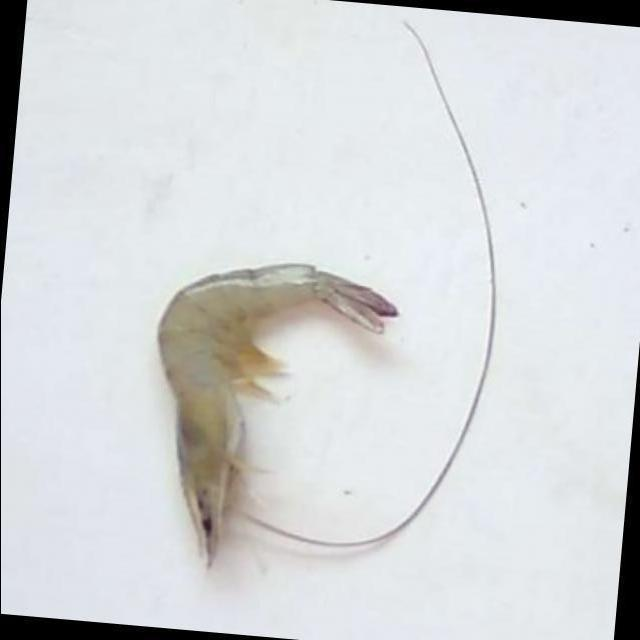shrimp: (158, 264, 395, 561)
